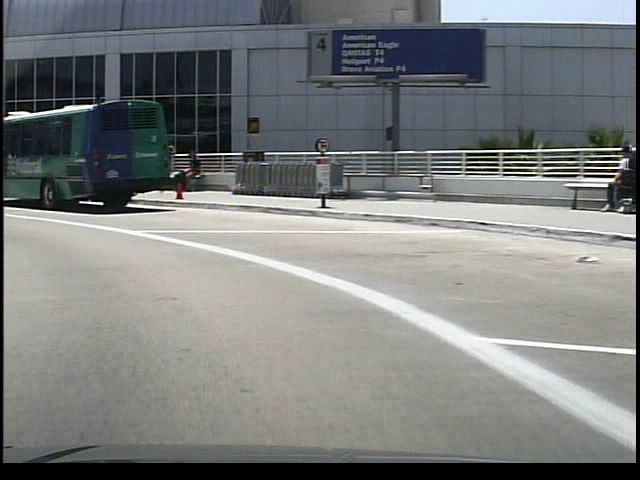person: (174, 146, 202, 194)
